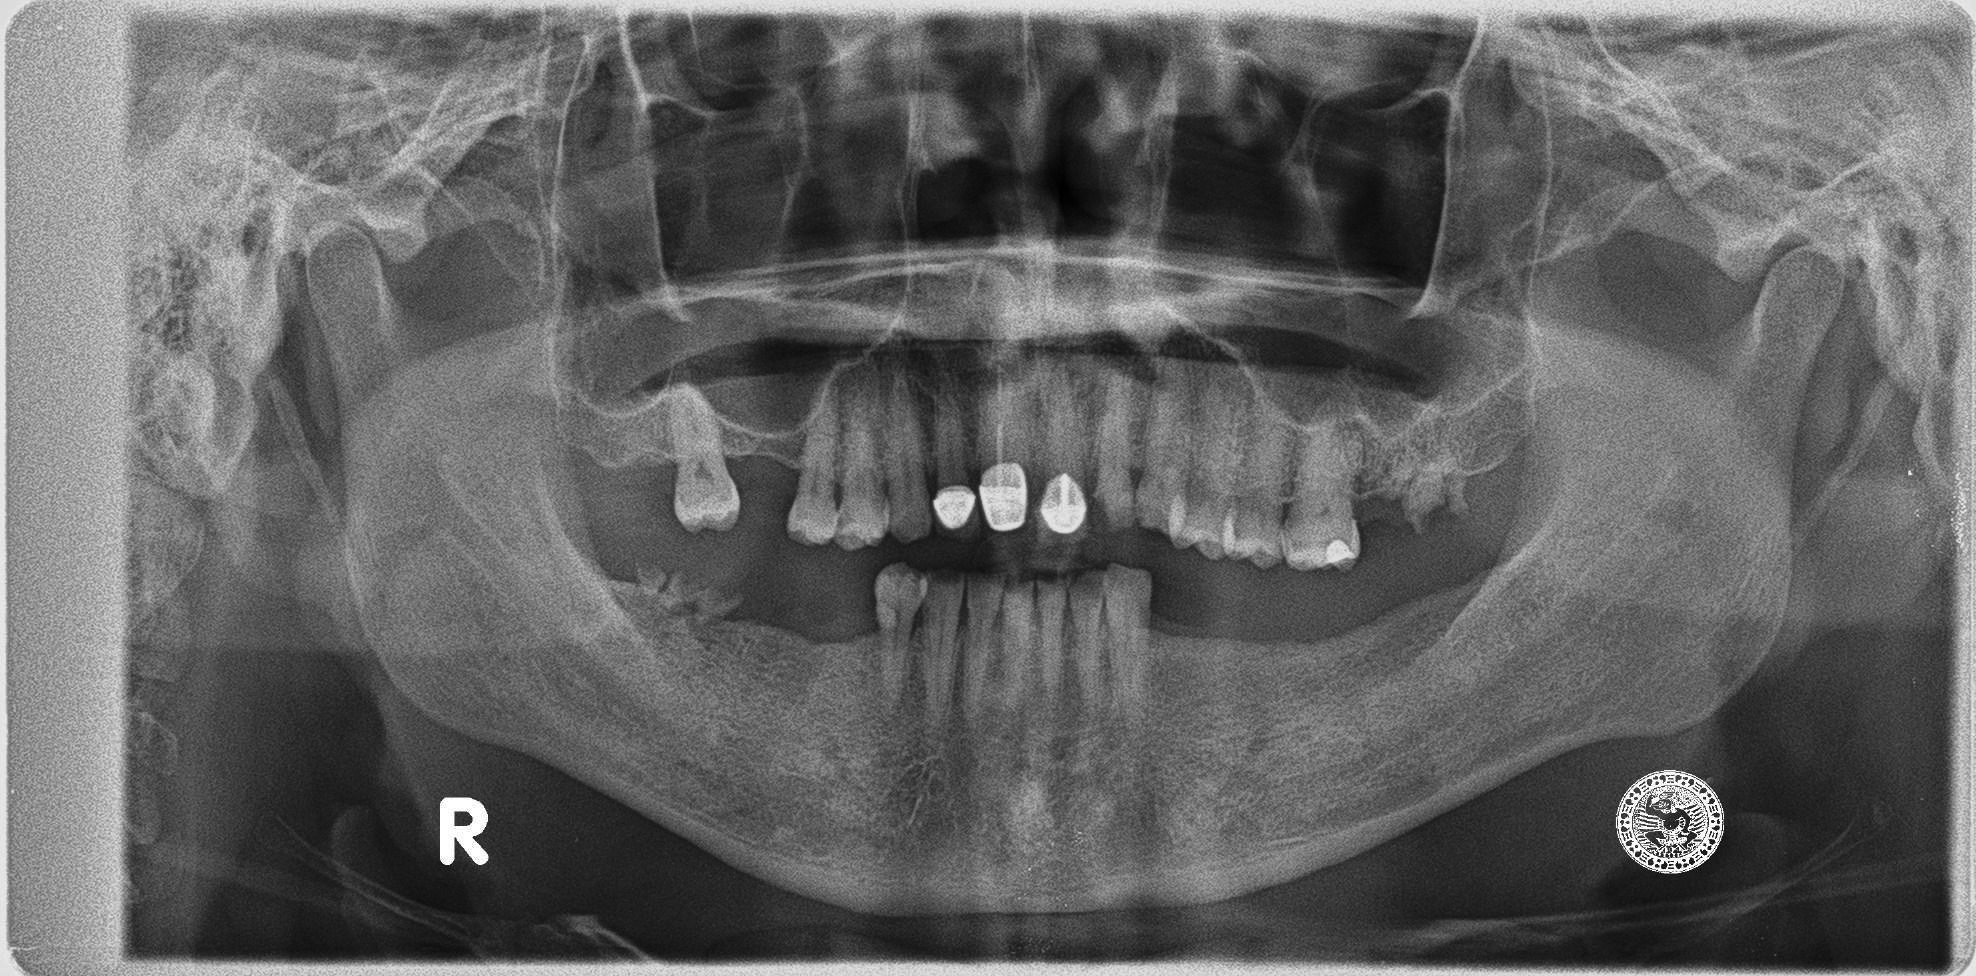Individual Tooth: (1168, 373, 1241, 555), (662, 383, 740, 531), (1283, 429, 1361, 574), (834, 356, 892, 550), (1133, 361, 1190, 545), (1221, 426, 1290, 570), (1037, 363, 1088, 546), (975, 359, 1028, 530), (885, 359, 931, 543), (931, 366, 978, 540), (875, 564, 928, 711), (1101, 564, 1151, 710), (788, 402, 838, 545), (921, 576, 965, 728), (1093, 377, 1135, 526), (962, 572, 1002, 720), (1067, 570, 1106, 701), (1033, 578, 1067, 711), (999, 578, 1032, 709)
